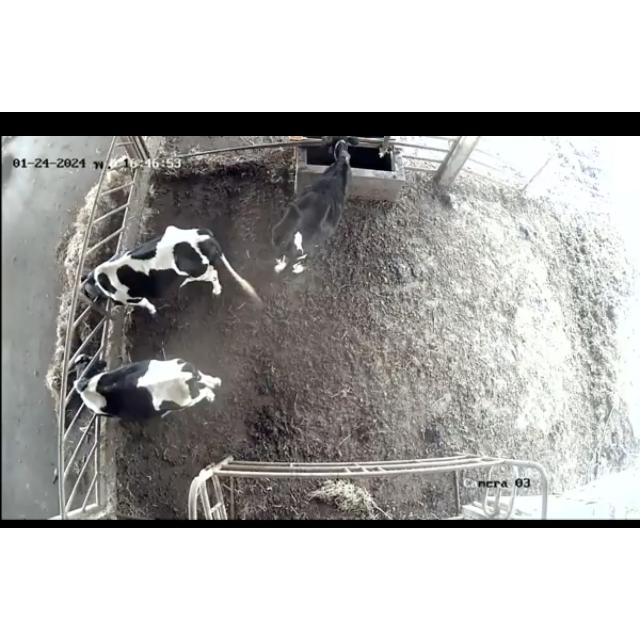drink: (309, 137, 369, 183)
eat: (59, 245, 140, 309), (46, 344, 112, 420)
